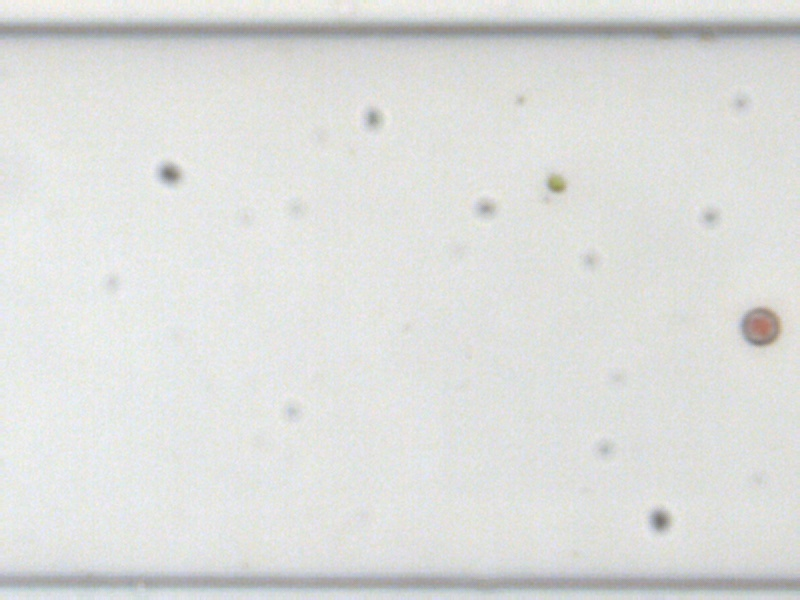Chlorella: (545, 171, 566, 193)
Porphyridium: (736, 303, 782, 347)
